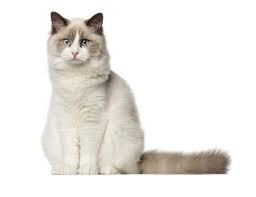ragdoll: (37, 1, 115, 86)
